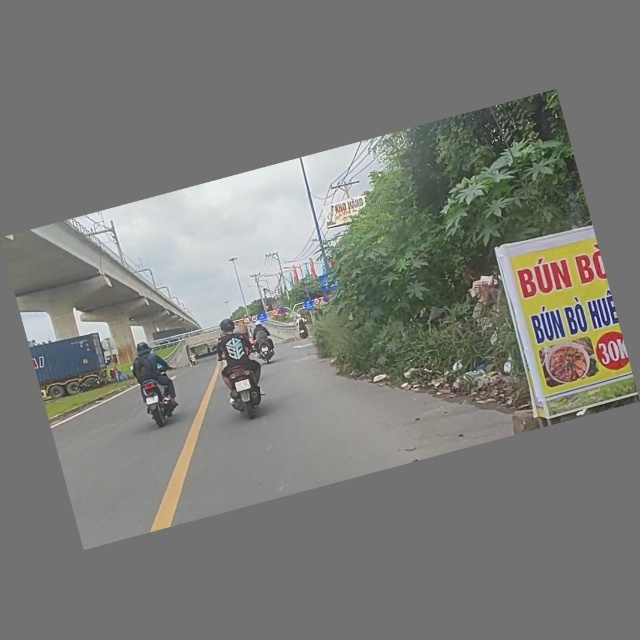P.107: (312, 297, 321, 307), (270, 309, 279, 318)
P.117*: (242, 316, 251, 325)
P.127*40: (250, 314, 259, 323)
P.130: (322, 294, 331, 304), (278, 307, 286, 315)
